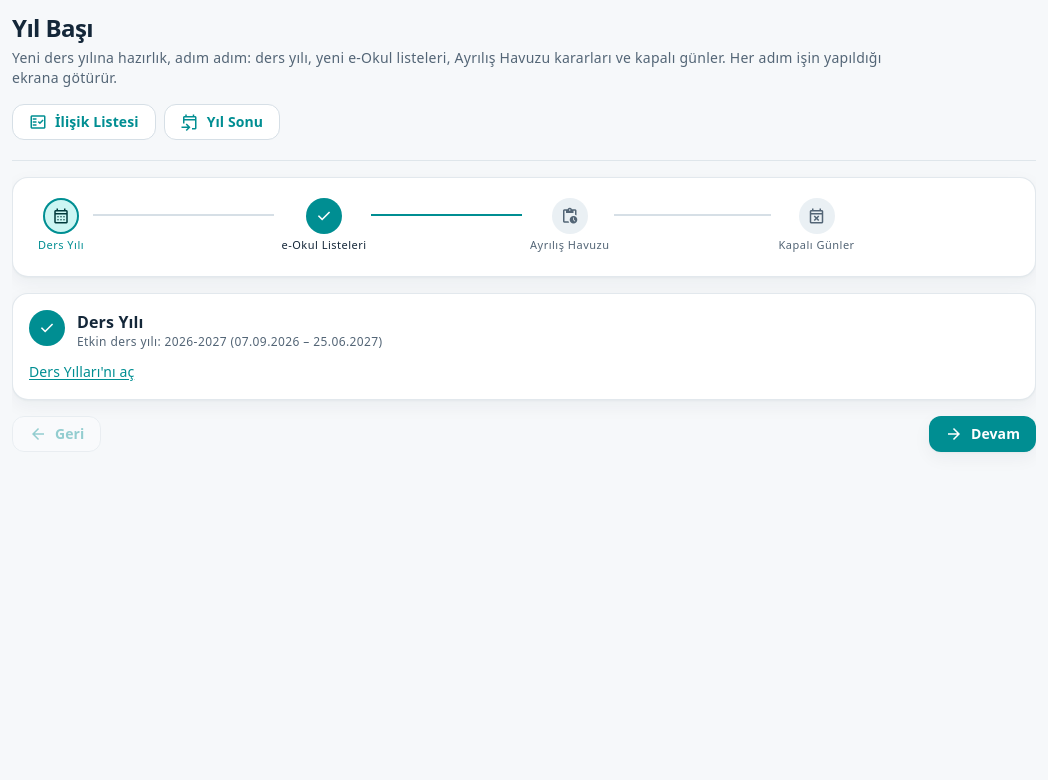
Test case: YilBasiPage › tamamlanan adıma raydan dönülür
Expected: the text "Etkin ders yılı: 2026-2027 (07.09.2026 – 25.06.2027)" is shown, [77, 334, 383, 350]
Click the button "Devam". click: [982, 434]
box: [929, 416, 1036, 452]
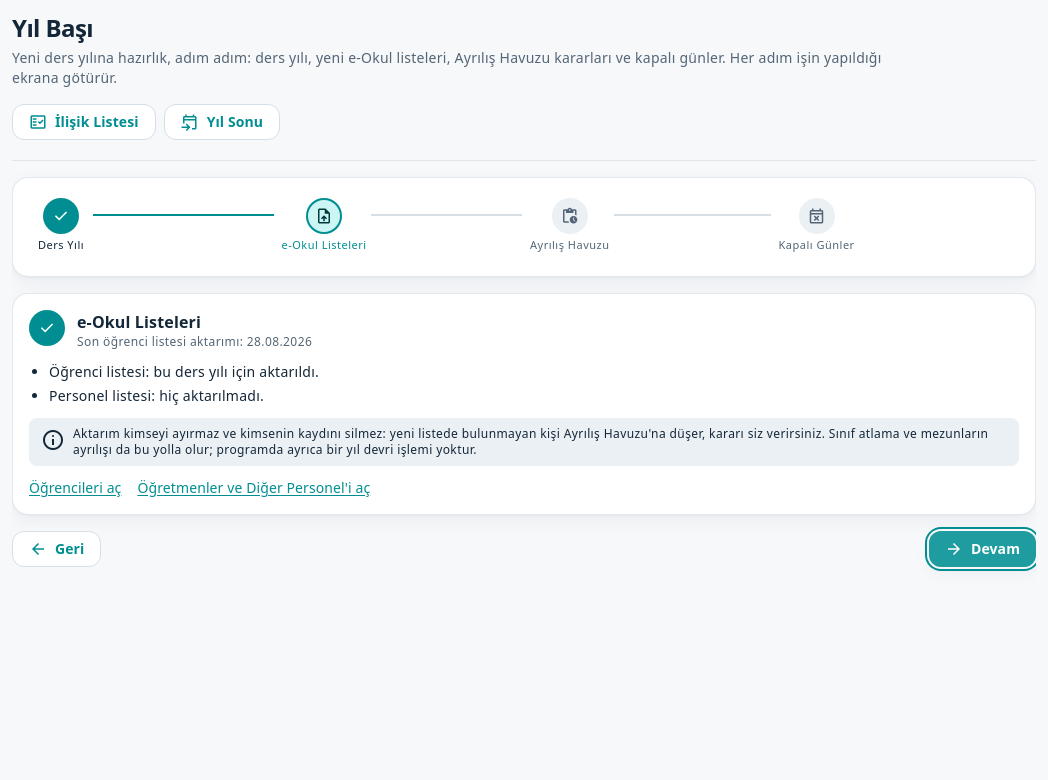
Click the button "Devam". click: [982, 549]
box: [929, 531, 1036, 567]
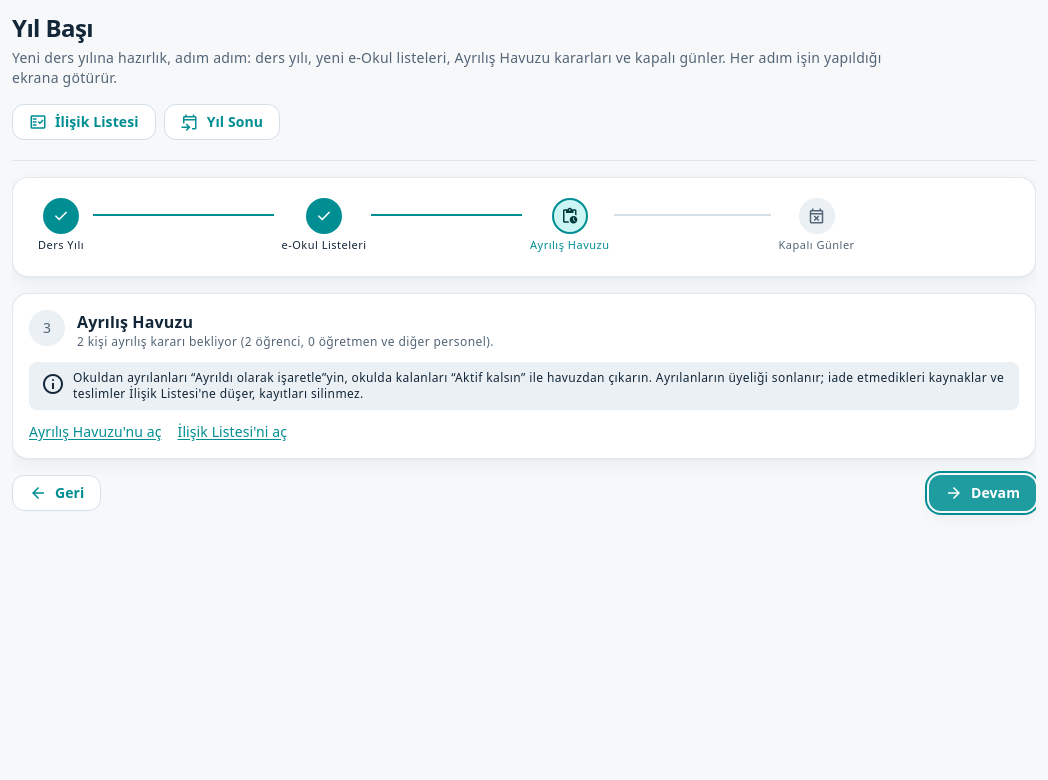
Click the button "Ders Yılı". click: [61, 225]
box: [29, 194, 93, 256]
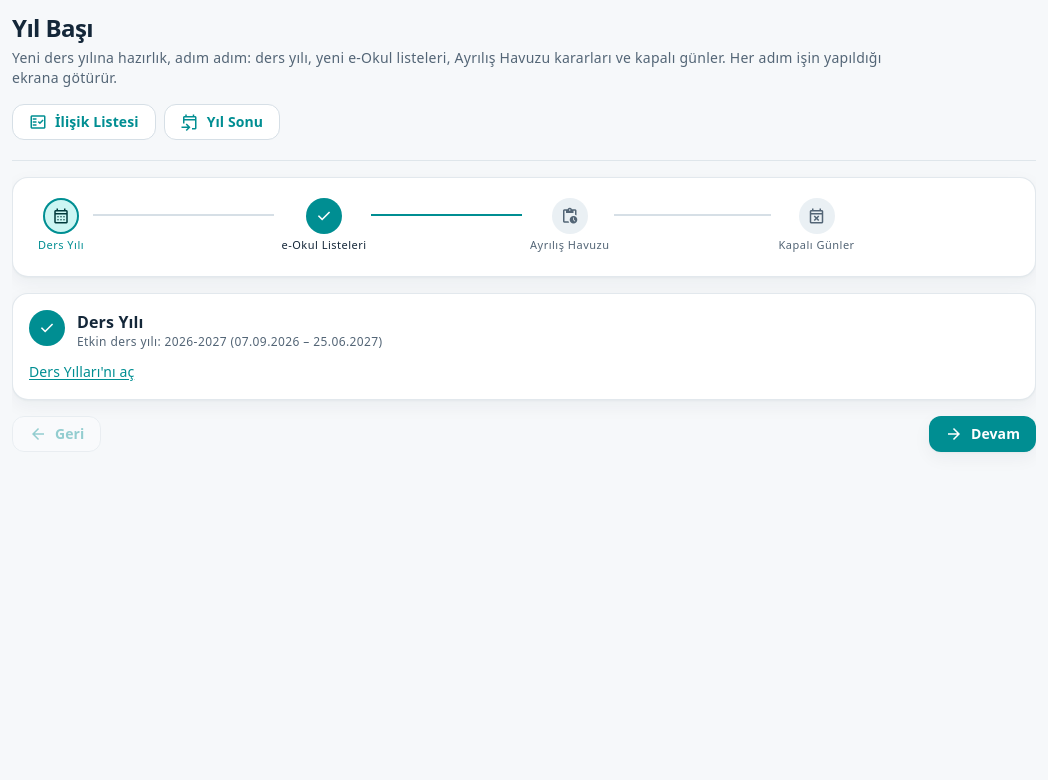
Expected: the link "Ders Yılları'nı aç" is shown, [29, 362, 134, 382]
